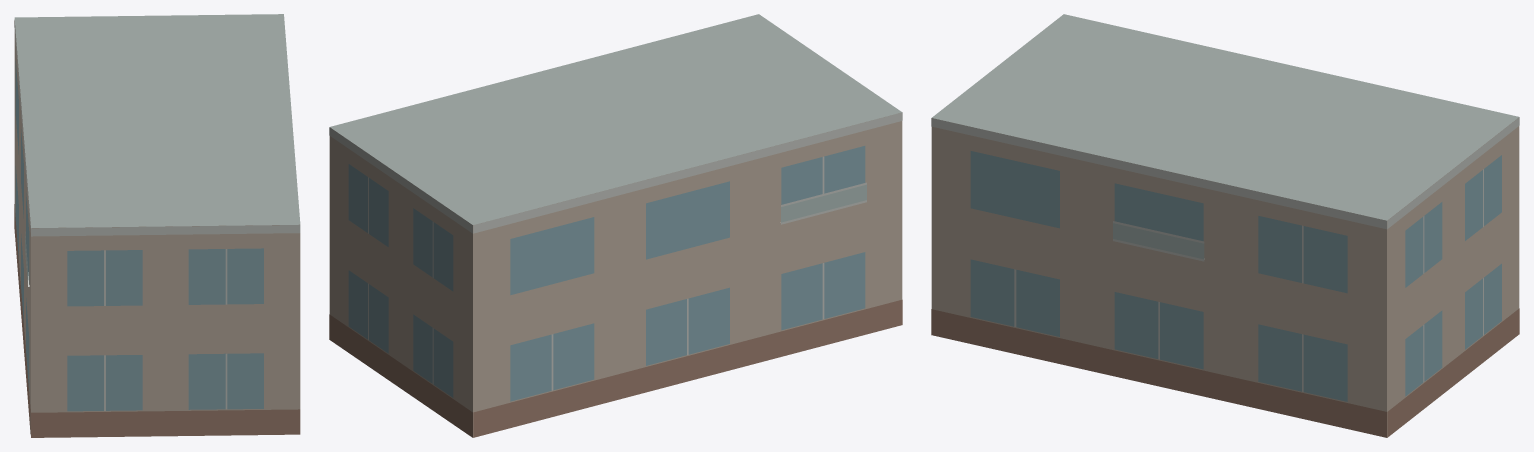
Rendered from survey-upis-33019839.glb.
3 views of the same model, side by side, from view 1: azimuth 30°, elevation 25°; view 2: azimuth 150°, elevation 25°; view 3: azimuth 270°, elevation 25° (orthographic). The views are drawn at different scales.
Parts seen in each view (by area): view 1: survey-upis-33019839.tmp; view 2: survey-upis-33019839.tmp; view 3: survey-upis-33019839.tmp.
Boxes of the visible parts, x1=… form: survey-upis-33019839.tmp: x1=14, y1=14, x2=300, y2=437; survey-upis-33019839.tmp: x1=329, y1=14, x2=902, y2=437; survey-upis-33019839.tmp: x1=931, y1=14, x2=1519, y2=437.
Size of the model in its own units: 12.46 by 6.1 by 14.98.
